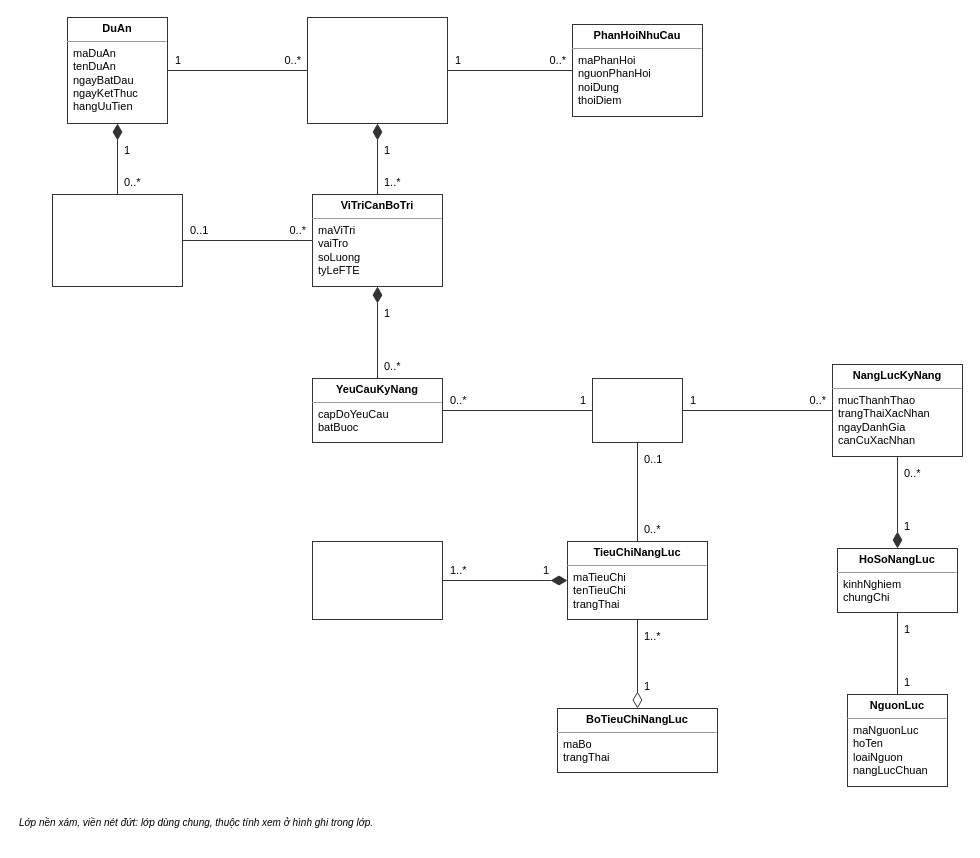
The diagram is 980 pixels wide and 858 high, and some of its shapes have lost their labels. The centre of each missing label's shape, as x and y in pixels:
"GiaiDoanDuAn maGiaiDoan tenGiaiDoan ngayBatDau ngayKetThuc" goes at (117,240).
"KyNang maKyNang tenKyNang" goes at (637,410).
"MucDoNangLuc thuTu moTa dieuKienCongNhan" goes at (377,580).
"NhuCauNguonLuc maNhuCau phamViCongViec thoiGianBatDau thoiGianKetThuc trangThai" goes at (377,70).
